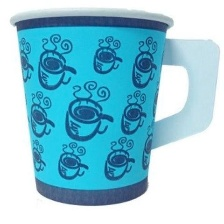paper_cup: (2, 0, 224, 211)
